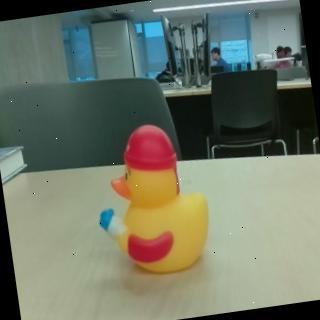duck_specialty: (85, 115, 218, 283)
